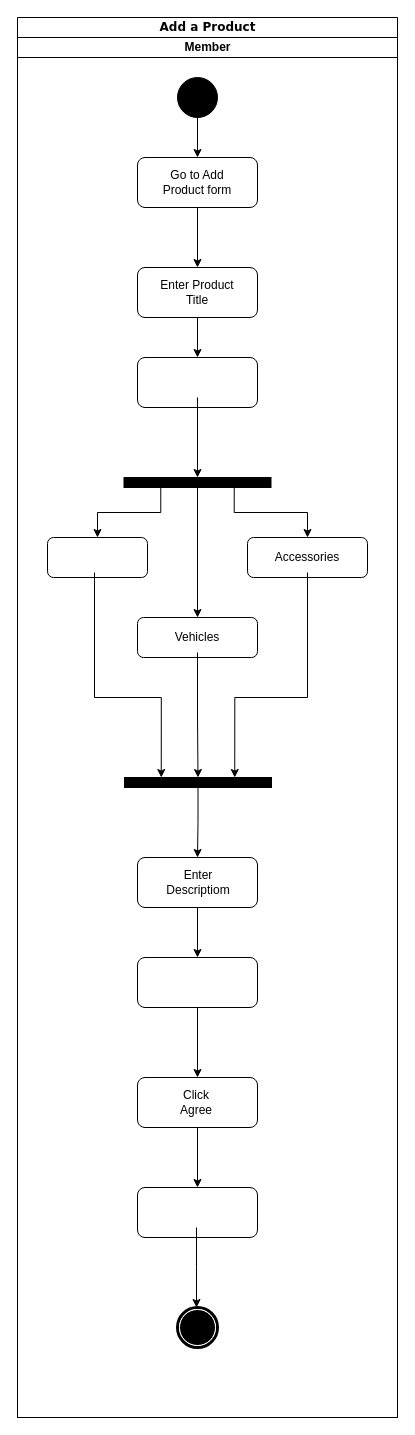
The diagram is 415 pixels wide and 1435 high, and some of its shapes have lost their labels. Here are the shapes that lost their labels. From the top down, the centre of each, then its label:
point 197,382: Select Catogory
point 97,557: Electronics
point 197,982: Select Photo
point 197,1212: Press add Product
